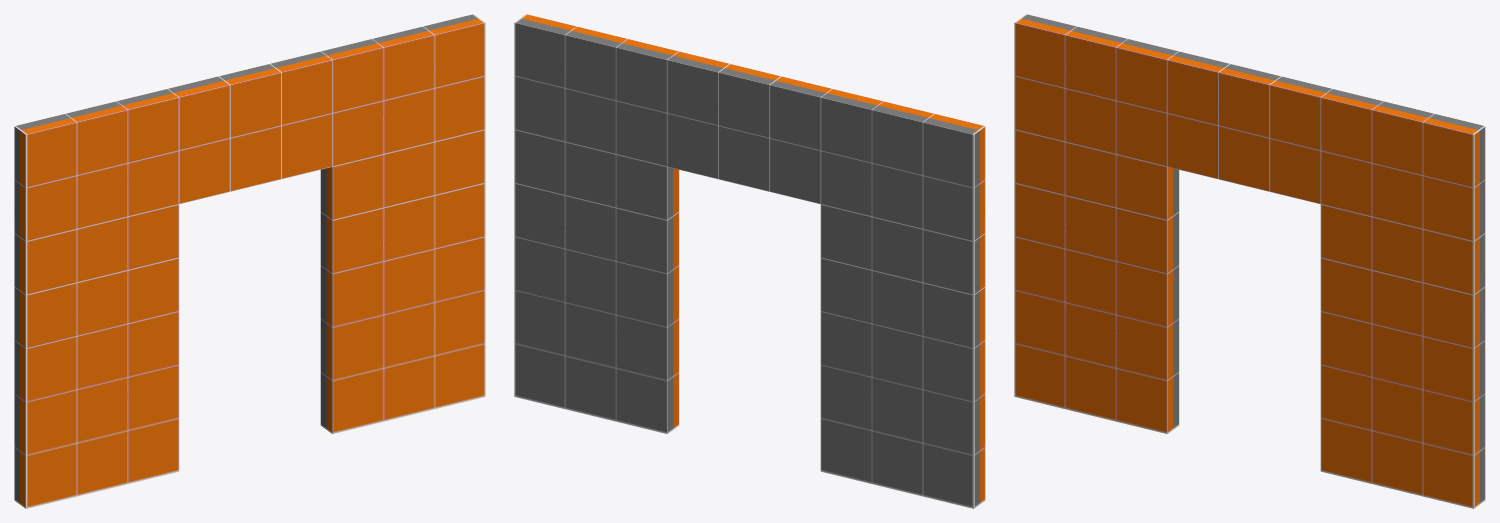
The model's file is M01WallDoorTypeA_1.FBX.
The picture shows the model from 3 angles, left to right: view 1: azimuth 30°, elevation 25°; view 2: azimuth 150°, elevation 25°; view 3: azimuth 330°, elevation 25°; orthographic projection.
Visible parts, largest first — view 1: M01WallDoorTypeA_1; view 2: M01WallDoorTypeA_1; view 3: M01WallDoorTypeA_1.
Part boxes in pixels (x1=…): M01WallDoorTypeA_1: x1=14, y1=14, x2=485, y2=508; M01WallDoorTypeA_1: x1=514, y1=14, x2=985, y2=508; M01WallDoorTypeA_1: x1=1014, y1=14, x2=1485, y2=508.
Size of what is drawn, in the model's own units: 4.5 by 3.5 by 0.2.
